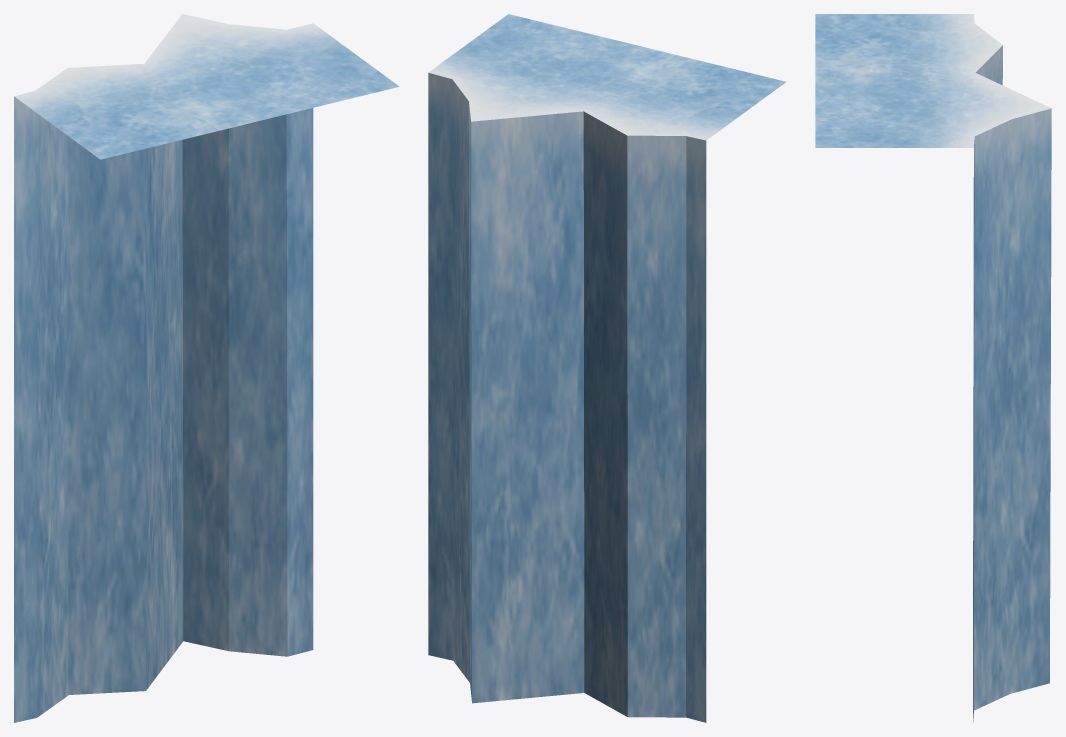
The model's file is Ice_StraightB.fbx.
3 renders of one model, left to right at view 1: azimuth 30°, elevation 25°; view 2: azimuth 150°, elevation 25°; view 3: azimuth 270°, elevation 25°, orthographic. The views are drawn at different scales.
Visible parts, largest first — view 1: Ice_StraightB; view 2: Ice_StraightB; view 3: Ice_StraightB.
Part boxes in pixels (x1=…): Ice_StraightB: x1=14, y1=14, x2=399, y2=722; Ice_StraightB: x1=428, y1=14, x2=786, y2=722; Ice_StraightB: x1=815, y1=14, x2=1051, y2=721.
Size of the model in its own units: 1.2 by 2.4 by 0.8944.
